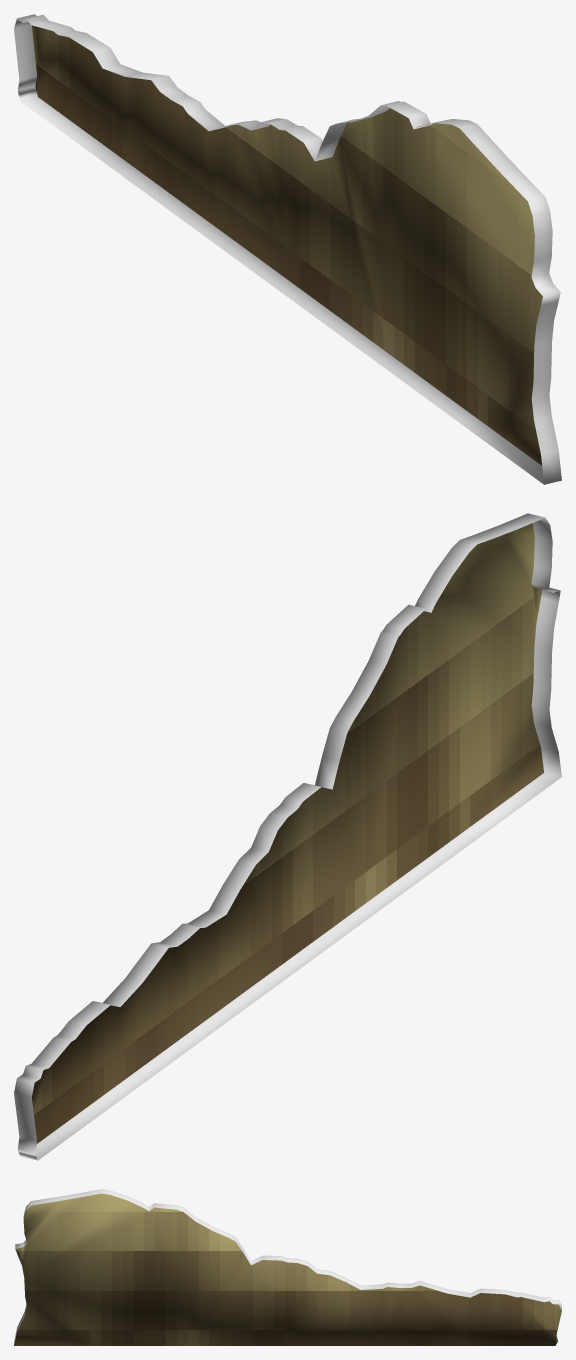
The model's file is ground1.fbx.
3 views of the same model, one above another, from view 1: azimuth 30°, elevation 25°; view 2: azimuth 150°, elevation 25°; view 3: azimuth 270°, elevation 25° (orthographic). The views are drawn at different scales.
Visible parts, largest first — view 1: ground_01; view 2: ground_01; view 3: ground_01.
Part boxes in pixels (<box>): ground_01: <box>14,14,561,484</box>; ground_01: <box>14,513,561,1160</box>; ground_01: <box>14,1189,561,1345</box>.
Bounding box in the file's own units: 0.116 × 1.84 × 5.99.
